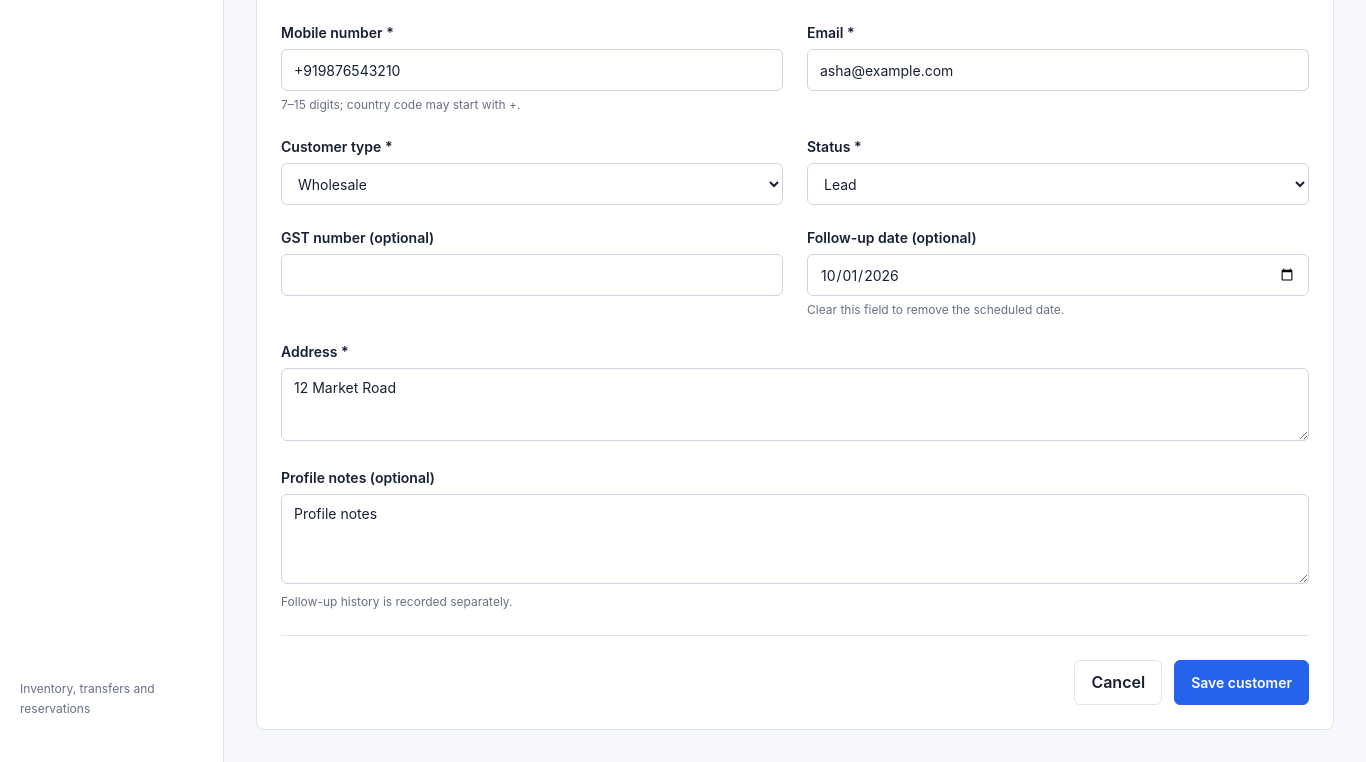
Test: customer forms and history › disables duplicate submissions while saving
(page scrolled)
Click the button "Save customer".
click(1242, 683)  # box [1174,660,1309,705]
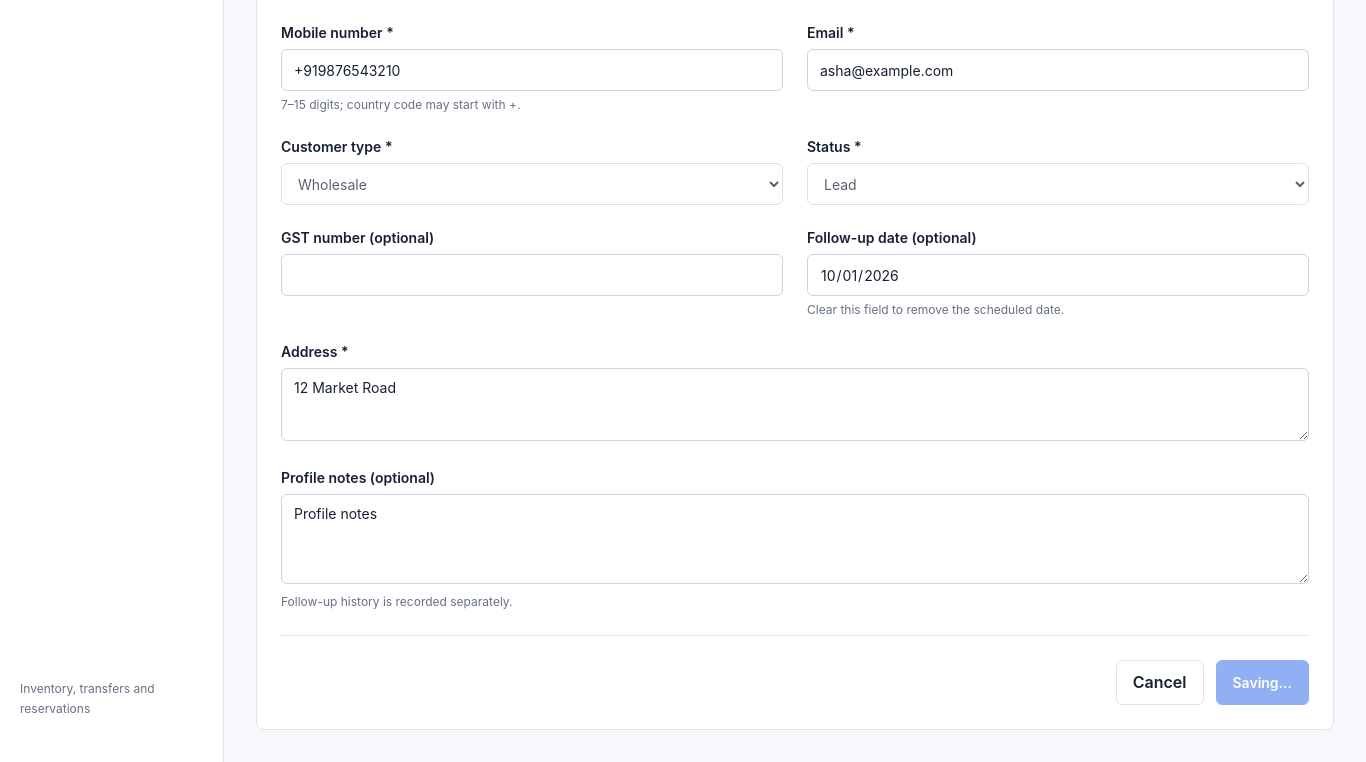
Check: the button "Saving…" is disabled, box [1216,660,1309,705]
